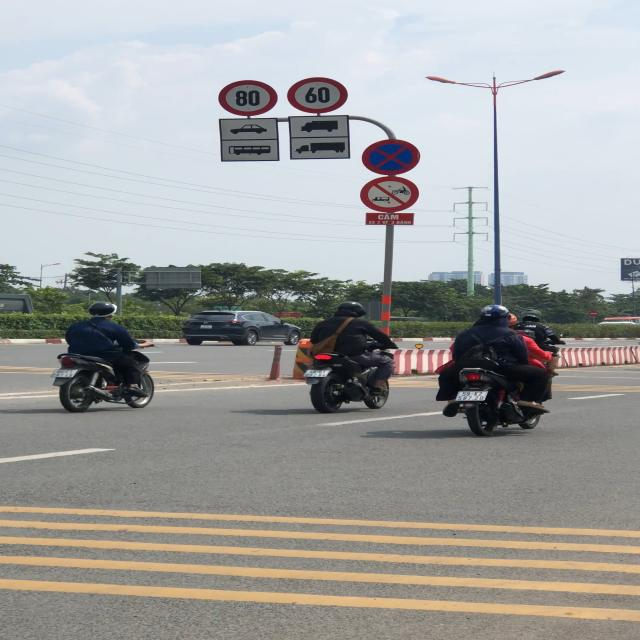Bien bao cam dung xe va do xe: (358, 136, 422, 176)
Bien bao toc do toi da cho phep: (217, 78, 279, 118), (286, 76, 351, 114)
